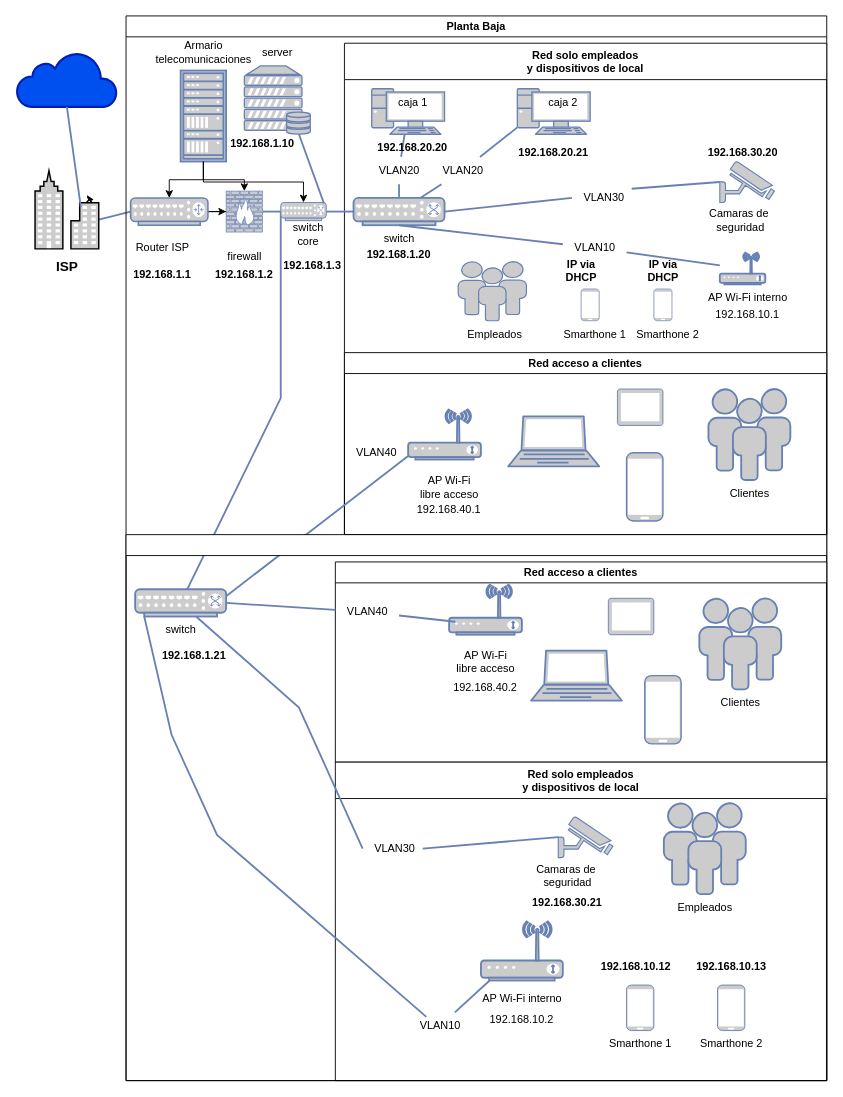
The diagram is 843 pixels wide and 1097 high, and some of its shapes have lost their labels. Each missing label, with the box of its shape:
Internet: (15, 51, 117, 107)
Primer piso: (125, 534, 827, 1081)
